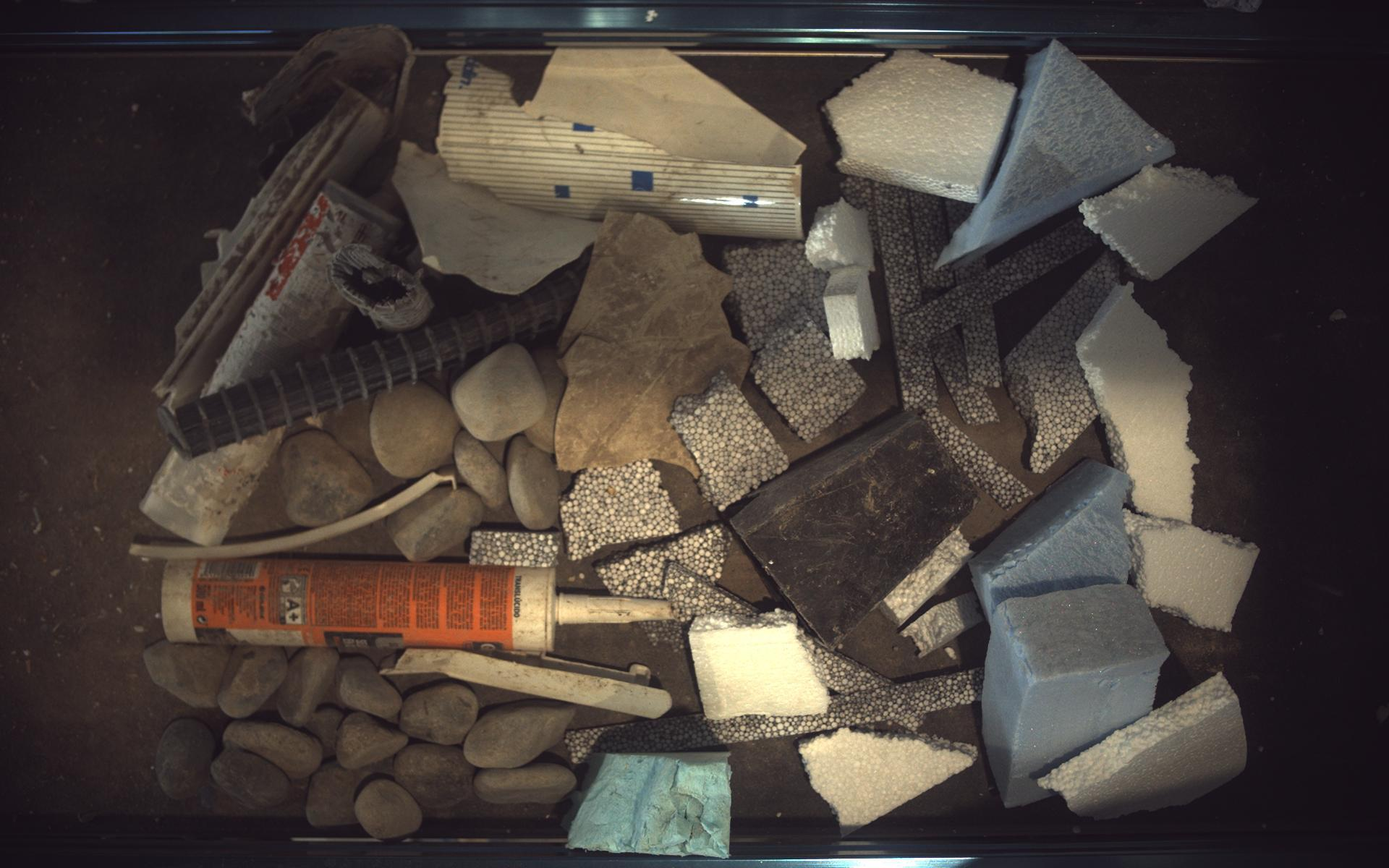foam: (932, 40, 1176, 272), (985, 585, 1171, 809), (564, 670, 985, 765), (1040, 674, 1250, 821), (826, 49, 1019, 203), (1079, 283, 1200, 523), (973, 461, 1134, 622), (1006, 251, 1122, 473), (905, 218, 1100, 344), (1082, 164, 1260, 280), (800, 729, 979, 835), (564, 754, 732, 860), (1127, 510, 1262, 633), (671, 372, 790, 510), (752, 305, 867, 441), (875, 181, 940, 410), (689, 618, 831, 721), (561, 460, 681, 561), (725, 240, 830, 351), (924, 407, 1035, 509), (595, 525, 731, 598), (881, 528, 975, 628), (933, 328, 1001, 425), (800, 631, 893, 696), (663, 561, 757, 623), (825, 265, 882, 359), (903, 593, 985, 658), (807, 197, 876, 271), (910, 190, 958, 292), (842, 175, 883, 260), (471, 530, 562, 568), (964, 304, 1004, 388), (642, 621, 686, 650), (947, 197, 977, 234), (956, 256, 990, 284), (923, 285, 952, 305)
plastic: (158, 260, 586, 457), (153, 87, 390, 407), (436, 55, 804, 239), (732, 412, 978, 647), (556, 212, 751, 474), (161, 559, 674, 655), (200, 176, 404, 394), (524, 47, 806, 166), (393, 140, 601, 294), (127, 472, 455, 561), (241, 23, 414, 175), (381, 649, 672, 720), (139, 431, 284, 545), (330, 244, 434, 332)
stone: (451, 344, 548, 441), (280, 430, 373, 528), (370, 382, 461, 479), (386, 486, 485, 563), (464, 703, 575, 770), (142, 641, 230, 710), (222, 722, 322, 781), (394, 744, 475, 811), (506, 435, 561, 530), (217, 647, 287, 720), (276, 648, 339, 729), (400, 683, 479, 746), (154, 720, 215, 801), (210, 749, 288, 812), (524, 346, 567, 454), (336, 657, 402, 724), (454, 430, 509, 509), (474, 764, 577, 806), (354, 780, 422, 841), (336, 713, 407, 770), (305, 763, 360, 829), (305, 707, 343, 760)
